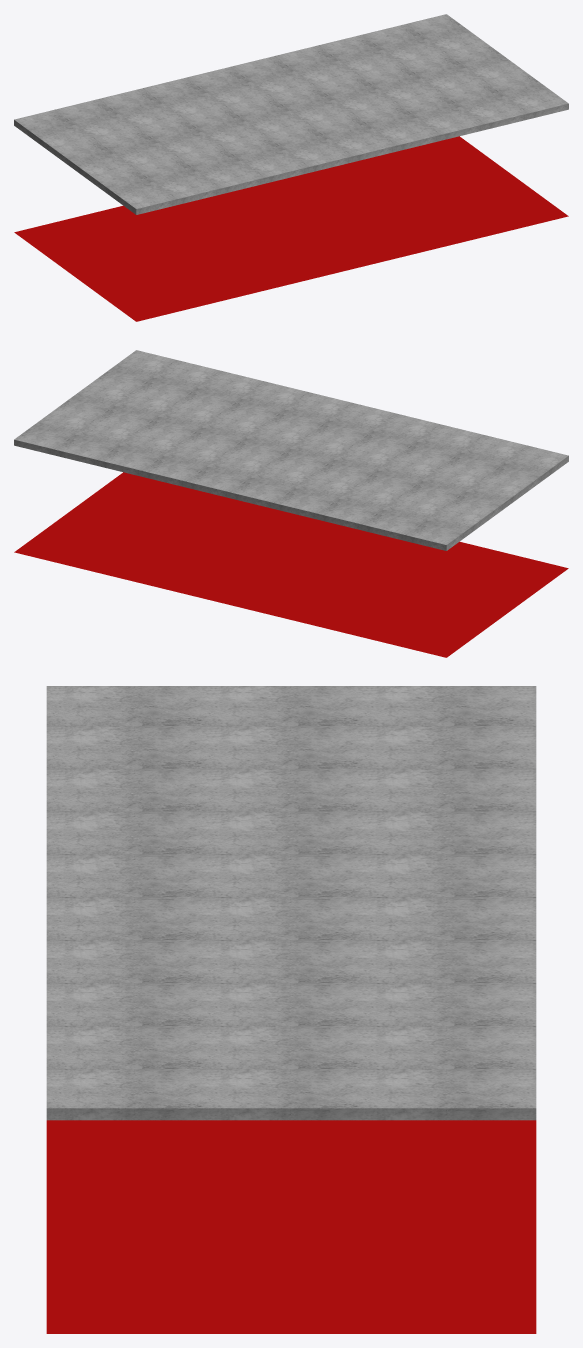
File: In Class 2025 - Floor Ceiling.fbx
3 renders of one model, top to bottom at view 1: azimuth 30°, elevation 25°; view 2: azimuth 150°, elevation 25°; view 3: azimuth 270°, elevation 25°, orthographic. The views are drawn at different scales.
Visible parts, largest first — view 1: Ceiling, Floor; view 2: Ceiling, Floor; view 3: Ceiling, Floor.
Part boxes in pixels (left/top/right/bottom): Ceiling: left=14, top=14, right=568, bottom=214; Floor: left=14, top=136, right=568, bottom=321; Ceiling: left=14, top=350, right=568, bottom=550; Floor: left=14, top=472, right=568, bottom=657; Ceiling: left=46, top=686, right=536, bottom=1120; Floor: left=46, top=1120, right=536, bottom=1333.
Size of the model in its own units: 611 by 299 by 152.
2 materials, 1 textured.
